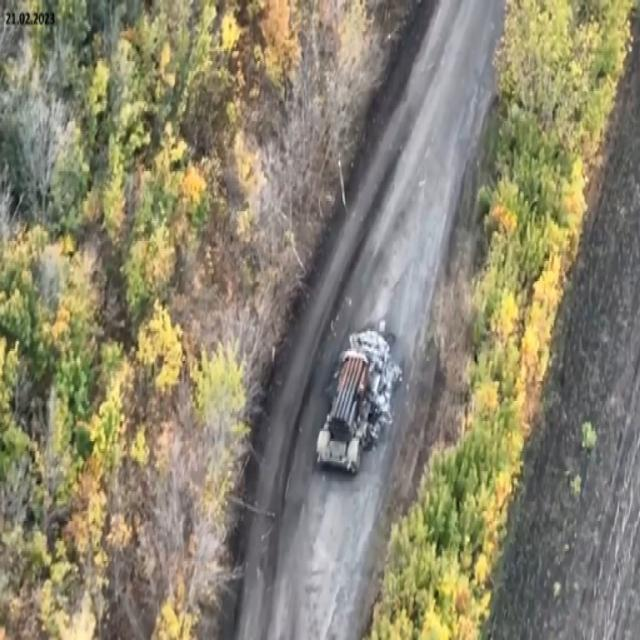MLRS: (313, 336, 392, 478)
